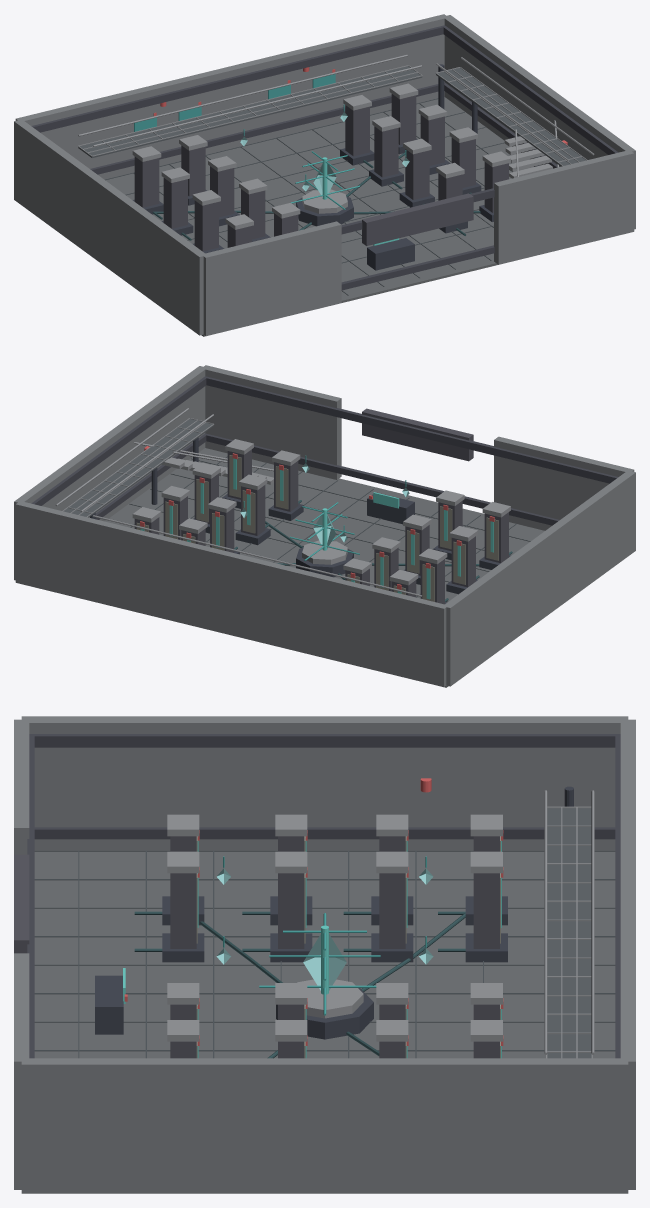
The model's file is alien_server_room_example.glb.
3 renders of one model, top to bottom at view 1: azimuth 30°, elevation 25°; view 2: azimuth 150°, elevation 25°; view 3: azimuth 270°, elevation 25°, orthographic. The views are drawn at different scales.
Parts seen in each view (by area): view 1: main_floor_slab, north_back_wall, west_wall, south_front_wall_right, south_front_wall_left, east_wall, north_upper_catwalk_thin_mesh_base, north_upper_wall_trim, south_door_header, east_upper_catwalk_thin_mesh_base, north_lower_wall_trim, east_upper_wall_trim (+24 smaller); view 2: north_back_wall, west_wall, main_floor_slab, south_front_wall_right, east_wall, south_front_wall_left, south_upper_wall_trim, east_upper_catwalk_thin_mesh_base, south_door_header, south_lower_wall_trim, east_upper_wall_trim, entry_control_console_base (+13 smaller); view 3: east_wall, main_floor_slab, west_wall, north_upper_catwalk_thin_mesh_base, west_upper_wall_trim, north_back_wall, west_lower_wall_trim, south_front_wall_right, south_front_wall_left, server_5_body, server_6_body, server_8_body (+36 smaller).
Part boxes in pixels (box(x1,y1,x2,y2)): main_floor_slab: box(106, 97, 533, 336); north_back_wall: box(15, 14, 447, 179); west_wall: box(14, 119, 206, 335); south_front_wall_right: box(494, 151, 634, 264); south_front_wall_left: box(202, 221, 341, 336); east_wall: box(442, 15, 635, 229); north_upper_catwalk_thin_mesh_base: box(78, 66, 422, 157); north_upper_wall_trim: box(31, 25, 445, 132); south_door_header: box(362, 193, 473, 245); east_upper_catwalk_thin_mesh_base: box(436, 68, 585, 166); north_lower_wall_trim: box(90, 82, 445, 174); east_upper_wall_trim: box(442, 25, 618, 154); north_back_wall: box(15, 501, 448, 687); west_wall: box(442, 470, 635, 686); main_floor_slab: box(105, 448, 544, 687); south_front_wall_right: box(202, 365, 341, 479); east_wall: box(14, 366, 207, 580); south_front_wall_left: box(494, 436, 634, 530); south_upper_wall_trim: box(204, 376, 618, 483); east_upper_catwalk_thin_mesh_base: box(64, 419, 213, 517); south_door_header: box(362, 408, 473, 461); south_lower_wall_trim: box(204, 433, 559, 525); east_upper_wall_trim: box(31, 377, 206, 505); entry_control_console_base: box(367, 492, 414, 524); east_wall: box(21, 1058, 628, 1192); main_floor_slab: box(21, 851, 628, 1193); west_wall: box(21, 716, 628, 850); north_upper_catwalk_thin_mesh_base: box(547, 808, 591, 1058); west_upper_wall_trim: box(29, 734, 615, 747); north_back_wall: box(620, 719, 635, 1189); west_lower_wall_trim: box(34, 827, 615, 839); south_front_wall_right: box(14, 953, 29, 1189); south_front_wall_left: box(14, 719, 29, 854); server_5_body: box(473, 873, 499, 948); server_6_body: box(379, 873, 405, 948); server_8_body: box(170, 873, 196, 948).
Size of the model in its own units: 24.45 by 4.32 by 18.45.
